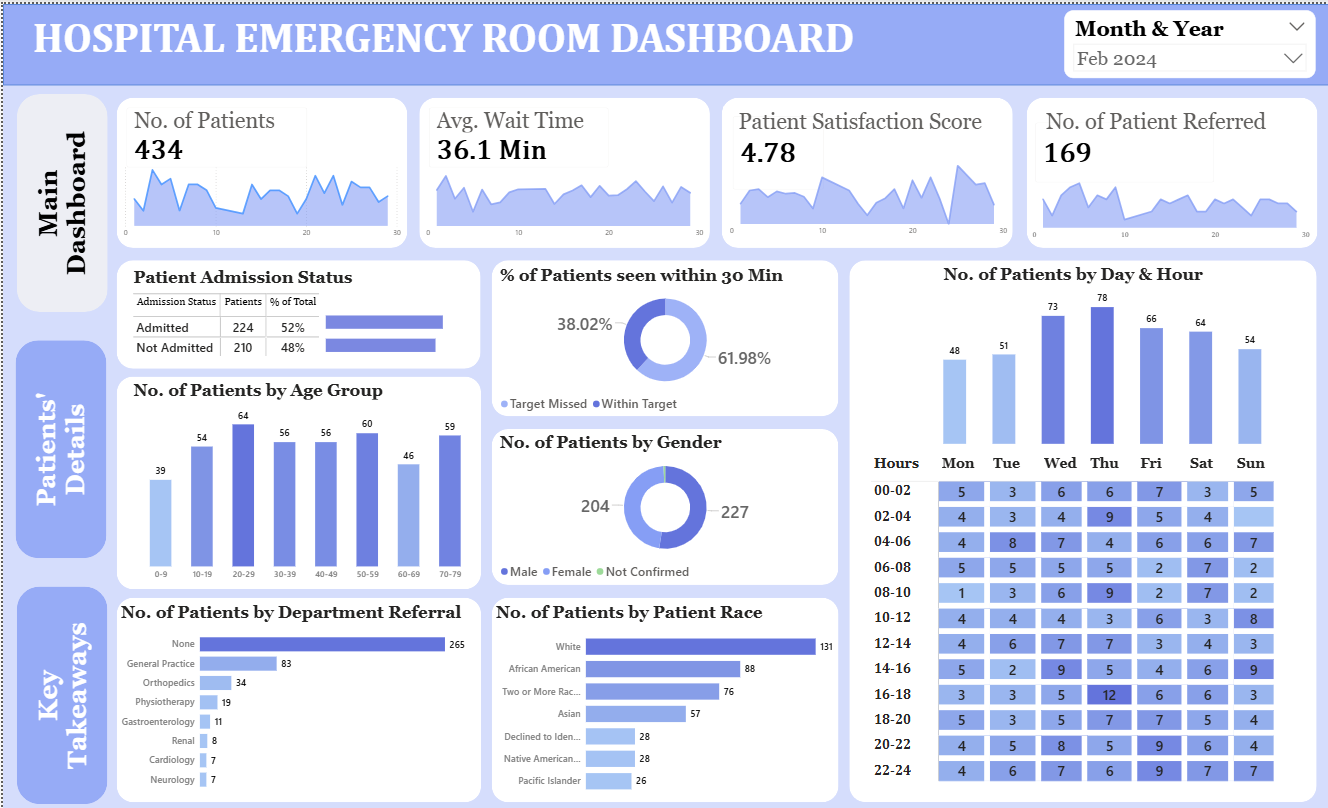

What the dashboard file says about the page in this screenshot:
{"tool":"powerbi","page":{"name":"Main Dashboard","canvas":[2300,1400],"ordinal":0},"visuals":[{"type":"shape","box":[0,0,2298.9,140.8],"z":0},{"type":"shape","box":[197.8,162.5,503.2,260],"z":0,"group":"g3"},{"type":"shape","box":[721.5,162.5,503.5,260],"z":0,"group":"g2"},{"type":"shape","box":[1245.5,162.5,504,260],"z":0,"group":"g1"},{"type":"shape","box":[1771.6,162.5,503.5,260],"z":0,"group":"g4"},{"type":"shape","box":[846.9,443.4,600,270],"z":0,"group":"g5"},{"type":"shape","box":[846.9,736.5,600,270],"z":0,"group":"g6"},{"type":"textbox","box":[25.8,9.4,1473.2,117.3],"z":1000},{"type":"cardVisual","fields":{"Data":["Hospital ER_Data.No. of parients","Hospital ER_Data.No. of parients"]},"box":[198.7,162.5,347.7,139],"z":1000,"group":"g3"},{"type":"cardVisual","fields":{"Data":["Hospital ER_Data.Avg. Wait Time"]},"box":[722.4,162.5,345.5,139],"z":1000,"group":"g2"},{"type":"cardVisual","fields":{"Data":["Hospital ER_Data.Satisfaction Score"]},"box":[1248,177.6,192.1,161.2],"z":1000,"group":"g1"},{"type":"cardVisual","fields":{"Data":["Hospital ER_Data.No. of Patients Referred"]},"box":[1770.4,189.4,344.6,138.5],"z":1000,"group":"g4"},{"type":"donutChart","title":"% of Patients seen within 30 Min","fields":{"Category":["Hospital ER_Data.Waittime Status"],"Y":["Hospital ER_Data.No. of Patients"]},"box":[856.3,452.8,584.1,262.7],"z":1000,"group":"g5"},{"type":"donutChart","title":"No. of Patients by Gender","fields":{"Y":["Hospital ER_Data.No. of Patients"],"Category":["Hospital ER_Data.Patient Gender"]},"box":[856.3,743.5,584.1,262.7],"z":1000,"group":"g6"},{"type":"slicer","fields":{"Values":["Date Table.Month & Year"]},"box":[1837.5,10,435,117.5],"z":2000},{"type":"textbox","box":[1269.1,177.2,462,81.1],"z":2000,"group":"g1"},{"type":"textbox","box":[1799.4,177.4,473.4,71.7],"z":2000,"group":"g4"},{"type":"areaChart","fields":{"Category":["Date Table.Date.Variation.Date Hierarchy.Day"],"Y":["Hospital ER_Data.No. of parients"]},"box":[198.7,267.8,500,145],"z":2000,"group":"g3"},{"type":"areaChart","fields":{"Category":["Date Table.Date.Variation.Date Hierarchy.Day"],"Y":["Avg(Hospital ER_Data.Patient Waittime)"]},"box":[722.4,267.8,500,145.2],"z":2000,"group":"g2"},{"type":"shape","box":[23,155,157.5,377.5],"z":3000},{"type":"areaChart","fields":{"Category":["Date Table.Date.Variation.Date Hierarchy.Day"],"Y":["Hospital ER_Data.Satisfaction Score"]},"box":[1248,267.1,500,145],"z":3000,"group":"g1"},{"type":"areaChart","fields":{"Category":["Date Table.Date.Variation.Date Hierarchy.Day"],"Y":["Hospital ER_Data.No. of Patients Referred"]},"box":[1770,267.8,500,145.2],"z":3000,"group":"g4"},{"type":"shape","box":[22.5,581.9,157.5,377.5],"z":4000},{"type":"shape","box":[23.5,1008.7,157.2,377],"z":5000},{"type":"shape","box":[1466.2,443.4,809.3,938.3],"z":6000},{"type":"shape","box":[197.1,443.4,630,187.7],"z":7000},{"type":"shape","box":[846.9,1027.5,600.5,354.2],"z":8000},{"type":"shape","box":[197.1,644.3,631,368.3],"z":9000},{"type":"shape","box":[197.1,1027.5,631,354.2],"z":10000},{"type":"clusteredColumnChart","fields":{"Category":["Hospital ER_Data.Age Group"],"Y":["Hospital ER_Data.No. of parients"]},"box":[220.5,651.3,607.6,356.6],"z":11000},{"type":"clusteredBarChart","fields":{"Category":["Hospital ER_Data.Department Referral"],"Y":["Hospital ER_Data.No. of parients"]},"box":[199.4,1036.9,607.6,337.8],"z":12000},{"type":"pivotTable","title":"Patient Admission Status","fields":{"Rows":["Hospital ER_Data.Admission Status"],"Values":["Hospital ER_Data.No. of parients1","Hospital ER_Data.No. of parients"]},"box":[220,457.5,555,182.5],"z":13000},{"type":"barChart","fields":{"Category":["Hospital ER_Data.Admission Status"],"Y":["Hospital ER_Data.No. of parients"]},"box":[553.6,506.7,281.5,124.3],"z":14000},{"type":"group","id":"g1","title":"Group 1","box":[1245.5,162.5,504,260],"z":15000},{"type":"group","id":"g2","title":"Group 2","box":[721.5,162.5,503.5,260],"z":16000},{"type":"group","id":"g3","title":"Group 3","box":[197.8,162.5,503.2,260],"z":17000},{"type":"group","id":"g4","title":"Group 4","box":[1770,162.5,505.1,260],"z":18000},{"type":"group","id":"g5","title":"Group 5","box":[846.9,443.4,600,272.1],"z":19000},{"type":"group","id":"g6","title":"Group 6","box":[846.9,736.5,600,270],"z":20000},{"type":"clusteredBarChart","fields":{"Y":["Hospital ER_Data.No. of parients"],"Category":["Hospital ER_Data.Patient Race"]},"box":[849.2,1036.9,593.5,344.8],"z":21000},{"type":"pivotTable","fields":{"Values":["Hospital ER_Data.No. of Patients"],"Rows":["Hospital ER_Data.Waittime Interval"],"Columns":["Date Table.Day Name"]},"box":[1498,775.5,802,608.7],"z":22000},{"type":"columnChart","title":"No. of Patients by Day & Hour","fields":{"Category":["Date Table.Day Name"],"Y":["Hospital ER_Data.No. of Patients"]},"box":[1622.4,449.9,563.8,317.6],"z":23000}]}

Visuals, with their boxes in screenshot pixels (x1, y1, x2, y2), scaled from the page's 2300x1400 canvas onto the 1328x808 screenshot:
shape: bbox(0, 0, 1327, 81)
shape: bbox(114, 94, 405, 244)
shape: bbox(417, 94, 707, 244)
shape: bbox(719, 94, 1010, 244)
shape: bbox(1023, 94, 1314, 244)
shape: bbox(489, 256, 835, 412)
shape: bbox(489, 425, 835, 581)
textbox: bbox(15, 5, 866, 73)
cardVisual - Hospital ER_Data.No. of parients x Hospital ER_Data.No. of parients: bbox(115, 94, 315, 174)
cardVisual - Hospital ER_Data.Avg. Wait Time: bbox(417, 94, 617, 174)
cardVisual - Hospital ER_Data.Satisfaction Score: bbox(721, 103, 832, 196)
cardVisual - Hospital ER_Data.No. of Patients Referred: bbox(1022, 109, 1221, 189)
"% of Patients seen within 30 Min" donutChart: bbox(494, 261, 832, 413)
"No. of Patients by Gender" donutChart: bbox(494, 429, 832, 581)
slicer - Date Table.Month & Year: bbox(1061, 6, 1312, 74)
textbox: bbox(733, 102, 1000, 149)
textbox: bbox(1039, 102, 1312, 144)
areaChart - Date Table.Date.Variation.Date Hierarchy.Day x Hospital ER_Data.No. of parients: bbox(115, 155, 403, 238)
areaChart - Date Table.Date.Variation.Date Hierarchy.Day x Avg(Hospital ER_Data.Patient Waittime): bbox(417, 155, 706, 238)
shape: bbox(13, 89, 104, 307)
areaChart - Date Table.Date.Variation.Date Hierarchy.Day x Hospital ER_Data.Satisfaction Score: bbox(721, 154, 1009, 238)
areaChart - Date Table.Date.Variation.Date Hierarchy.Day x Hospital ER_Data.No. of Patients Referred: bbox(1022, 155, 1311, 238)
shape: bbox(13, 336, 104, 554)
shape: bbox(14, 582, 104, 800)
shape: bbox(847, 256, 1314, 797)
shape: bbox(114, 256, 478, 364)
shape: bbox(489, 593, 836, 797)
shape: bbox(114, 372, 478, 584)
shape: bbox(114, 593, 478, 797)
clusteredColumnChart - Hospital ER_Data.Age Group x Hospital ER_Data.No. of parients: bbox(127, 376, 478, 582)
clusteredBarChart - Hospital ER_Data.Department Referral x Hospital ER_Data.No. of parients: bbox(115, 598, 466, 793)
"Patient Admission Status" pivotTable: bbox(127, 264, 447, 369)
barChart - Hospital ER_Data.Admission Status x Hospital ER_Data.No. of parients: bbox(320, 292, 482, 364)
"Group 1" group: bbox(719, 94, 1010, 244)
"Group 2" group: bbox(417, 94, 707, 244)
"Group 3" group: bbox(114, 94, 405, 244)
"Group 4" group: bbox(1022, 94, 1314, 244)
"Group 5" group: bbox(489, 256, 835, 413)
"Group 6" group: bbox(489, 425, 835, 581)
clusteredBarChart - Hospital ER_Data.No. of parients x Hospital ER_Data.Patient Race: bbox(490, 598, 833, 797)
pivotTable - Hospital ER_Data.No. of Patients x Hospital ER_Data.Waittime Interval: bbox(865, 448, 1327, 799)
"No. of Patients by Day & Hour" columnChart: bbox(937, 260, 1262, 443)
